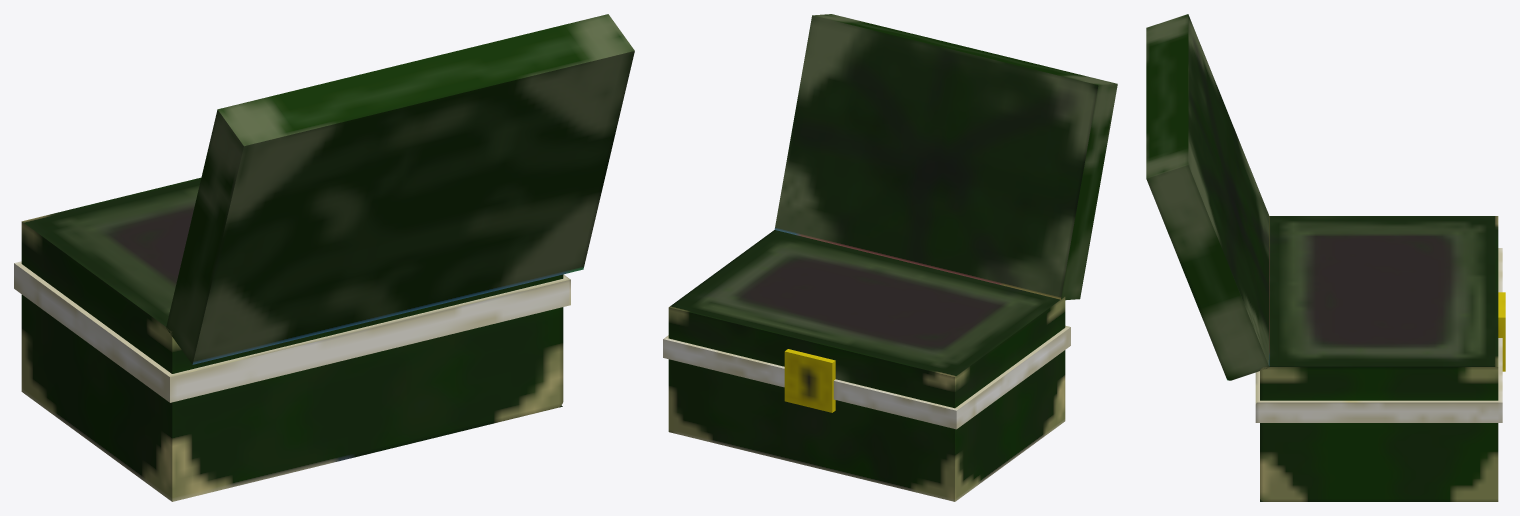
File: airdrop_crate_open.obj
The picture shows the model from 3 angles, left to right: view 1: azimuth 30°, elevation 25°; view 2: azimuth 150°, elevation 25°; view 3: azimuth 270°, elevation 25°; orthographic projection. The views are drawn at different scales.
Parts seen in each view (by area): view 1: chest_lid, chest_body, metal_band_middle; view 2: chest_lid, chest_body, metal_band_middle, front_lock; view 3: chest_body, chest_lid, metal_band_middle, front_lock.
Boxes of the visible parts, x1,y1,x2,y2 form: chest_lid: (166,14,634,364); chest_body: (21,177,563,501); metal_band_middle: (14,261,570,402); chest_lid: (774,14,1117,300); chest_body: (668,230,1065,501); metal_band_middle: (663,325,1070,429); front_lock: (784,349,835,412); chest_body: (1260,216,1498,501); chest_lid: (1146,14,1269,380); metal_band_middle: (1255,248,1502,422); front_lock: (1498,292,1505,371).
Bounding box in the file's own units: 1.54 × 1.56 × 1.51.
